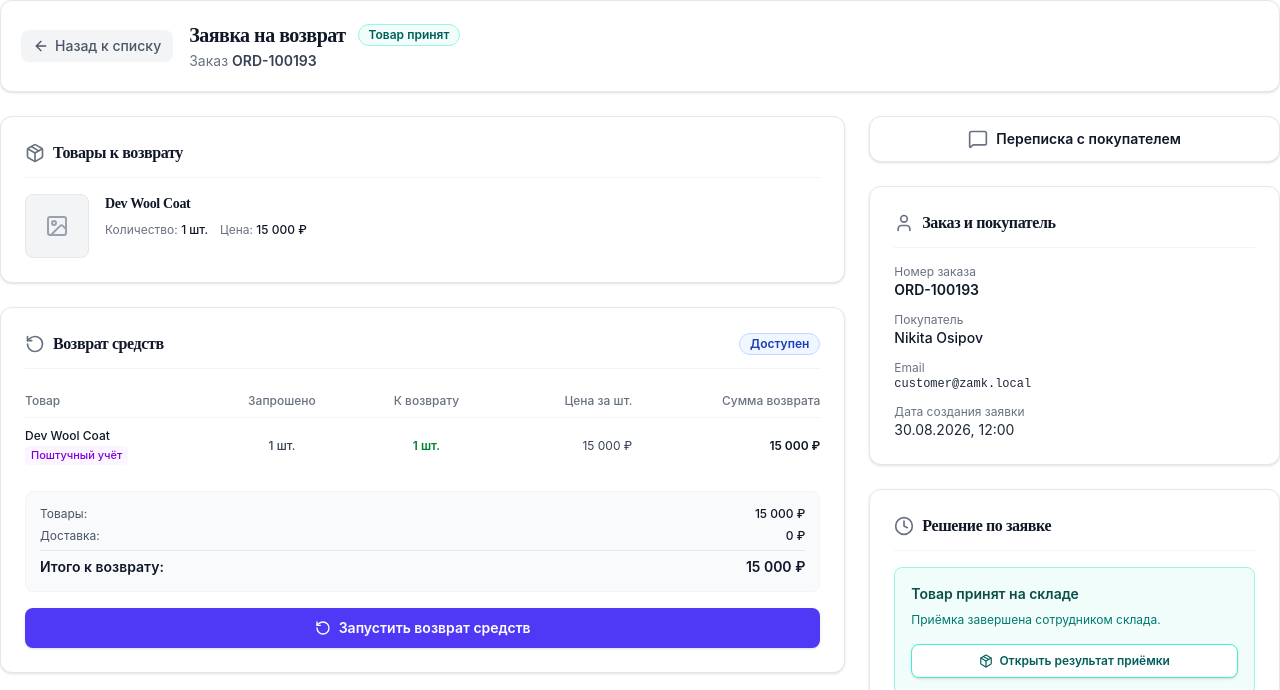
Test: Admin Returns Refund UI (M5.4B) › opens confirmation modal and creates refund reservation on submit
Click the button "Запустить возврат средств" at (423,628), box left=25, top=608, right=820, bottom=648
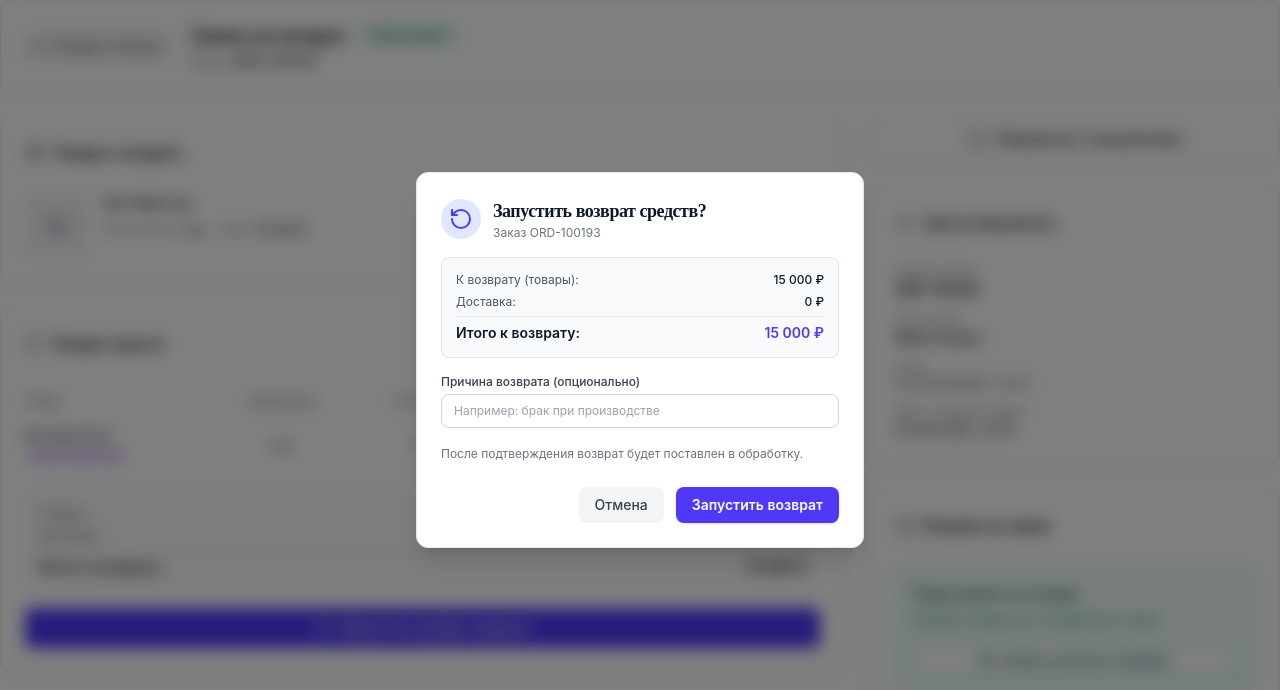
Check: the heading "Запустить возврат средств?" is shown, box left=493, top=197, right=706, bottom=225
Check: the text "После подтверждения возврат будет поставлен в обработку." is shown, box left=441, top=444, right=839, bottom=463
Type "Defective lining" into the field with placeholder "Например: брак при производстве" at (640,411), box left=441, top=394, right=839, bottom=428
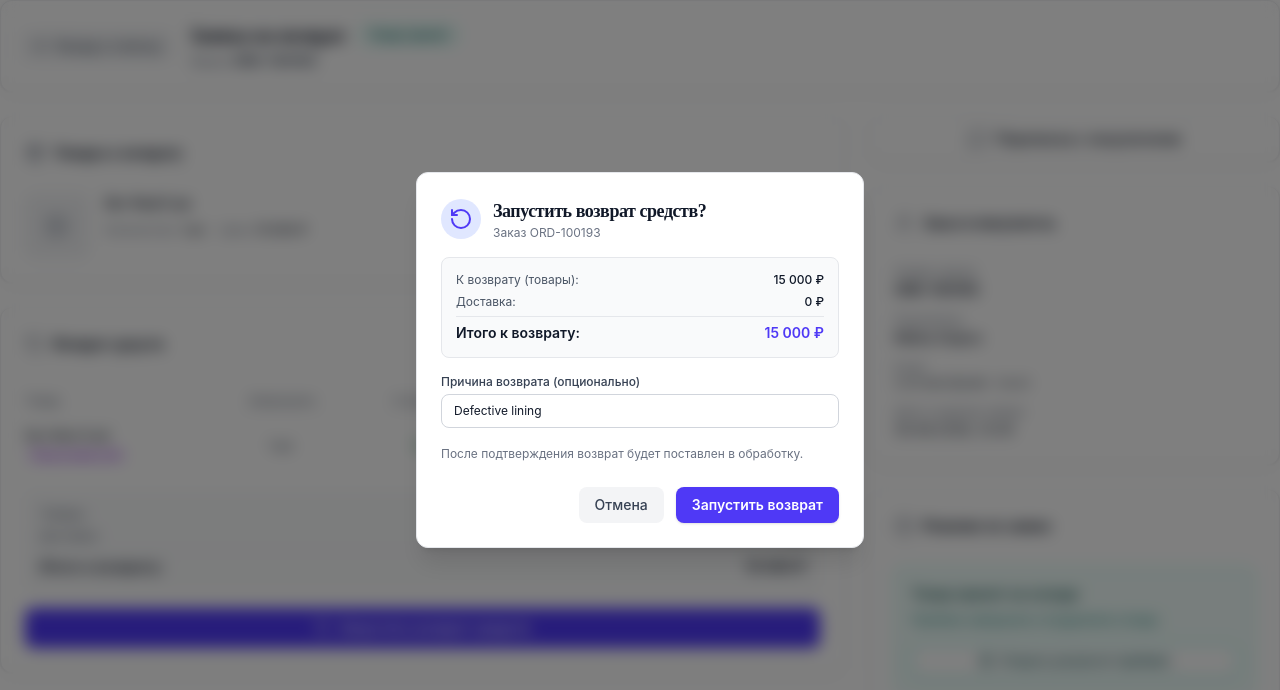
Click the button "Запустить возврат" at (757,505), box left=676, top=487, right=839, bottom=523
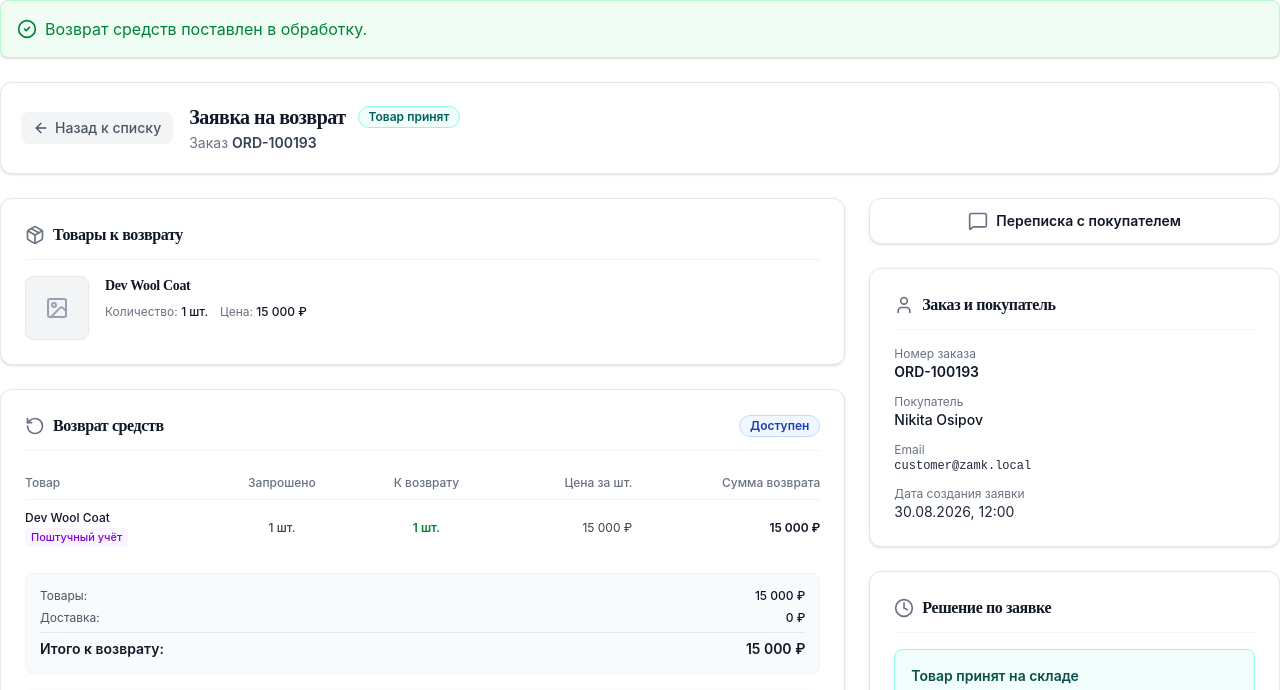
Check: the text "Возврат средств поставлен в обработку." is shown, box left=45, top=17, right=367, bottom=41
